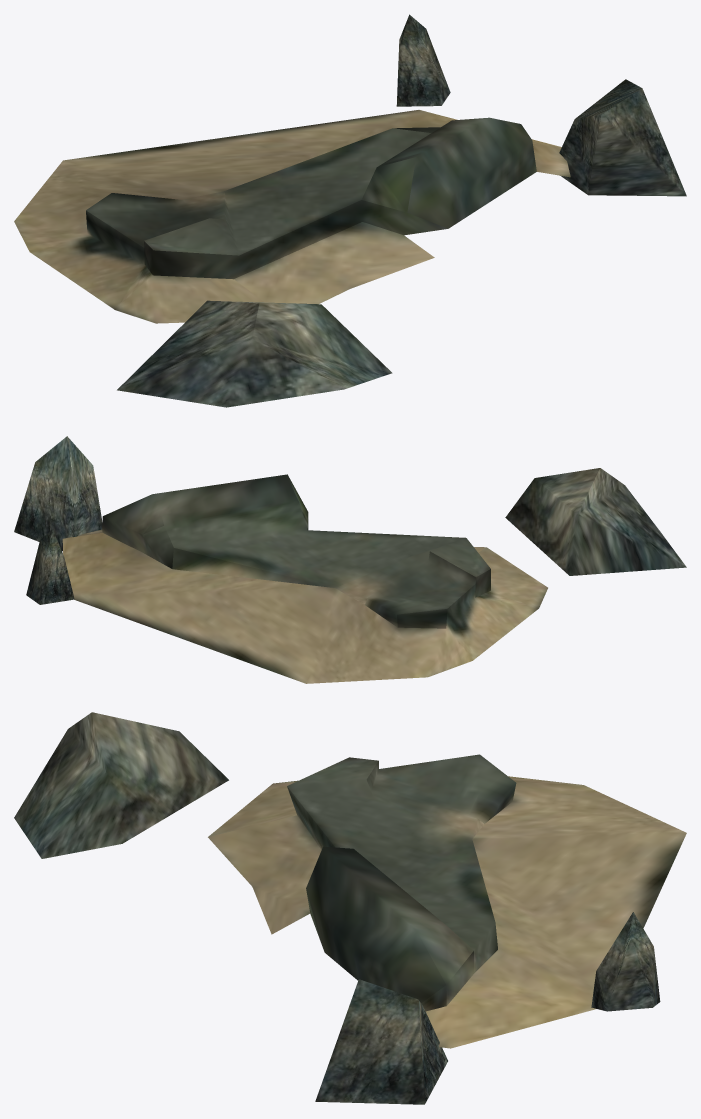
Rendered from pir_m_are_isl_pvpSpanish_low.fbx.
3 renders of one model, top to bottom at view 1: azimuth 30°, elevation 25°; view 2: azimuth 150°, elevation 25°; view 3: azimuth 270°, elevation 25°, orthographic. The views are drawn at different scales.
Parts seen in each view (by area): view 1: lod_mesh, mound_light_med_Proxy_lod_superlow2, mound_light_lrg_Proxy_lod_superlow2, mound_light_med2_2Proxy_lod_superlow2; view 2: lod_mesh, mound_light_med_Proxy_lod_superlow2, mound_light_lrg_Proxy_lod_superlow2, mound_light_med2_2Proxy_lod_superlow2; view 3: lod_mesh, mound_light_med_Proxy_lod_superlow2, mound_light_lrg_Proxy_lod_superlow2, mound_light_med2_2Proxy_lod_superlow2.
Part boxes in pixels (x1=…): lod_mesh: x1=14, y1=110, x2=570, y2=323; mound_light_med_Proxy_lod_superlow2: x1=117, y1=300, x2=392, y2=407; mound_light_lrg_Proxy_lod_superlow2: x1=559, y1=79, x2=686, y2=196; mound_light_med2_2Proxy_lod_superlow2: x1=396, y1=14, x2=450, y2=106; lod_mesh: x1=62, y1=474, x2=547, y2=683; mound_light_med_Proxy_lod_superlow2: x1=505, y1=468, x2=686, y2=575; mound_light_lrg_Proxy_lod_superlow2: x1=14, y1=436, x2=102, y2=551; mound_light_med2_2Proxy_lod_superlow2: x1=26, y1=529, x2=74, y2=604; lod_mesh: x1=208, y1=754, x2=686, y2=1048; mound_light_med_Proxy_lod_superlow2: x1=14, y1=712, x2=228, y2=858; mound_light_lrg_Proxy_lod_superlow2: x1=315, y1=979, x2=447, y2=1104; mound_light_med2_2Proxy_lod_superlow2: x1=591, y1=912, x2=660, y2=1011.
Bounding box in the file's own units: 147417 × 23160 × 118691.
Materials: 1 (1 with a texture image).
